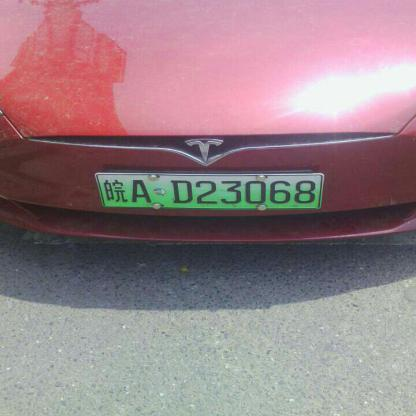lp: (95, 172, 323, 208)
